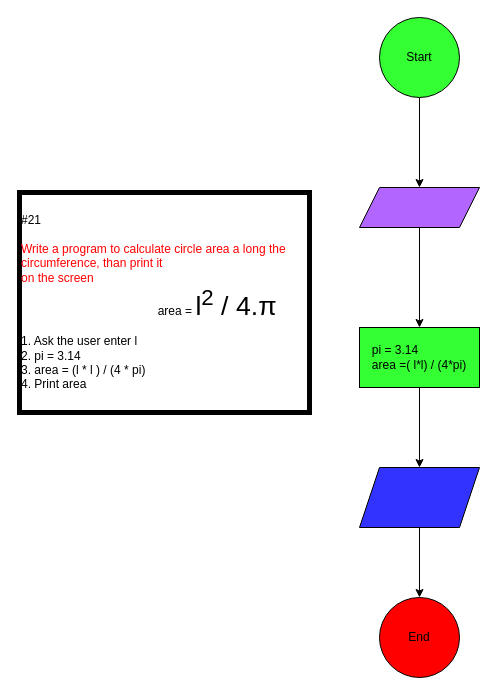
The diagram is 497 pixels wide and 695 high, and some of its shapes have lost their labels. Each missing label, with the box of its shape:
Print area: (358, 466, 480, 528)
Read l: (358, 186, 480, 228)
